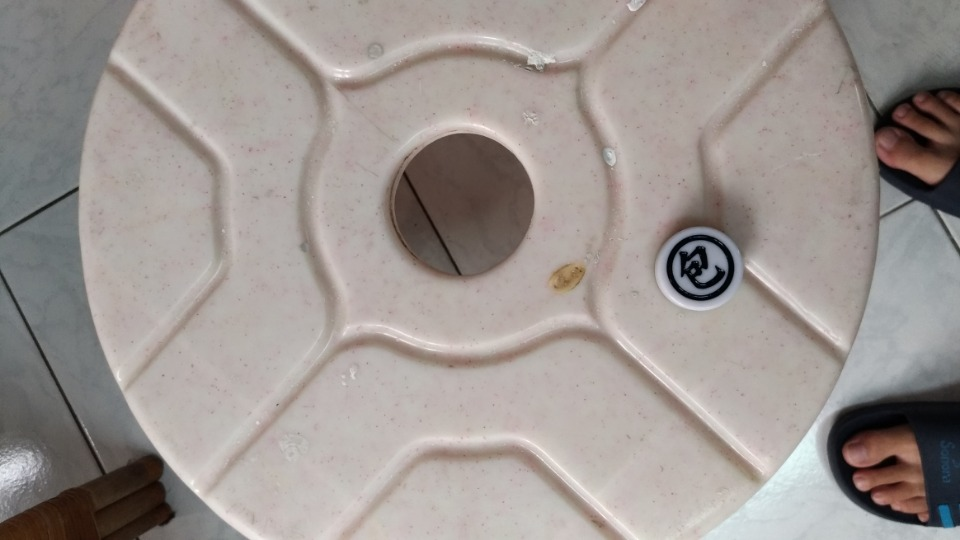b-cannon: (631, 218, 772, 324)
